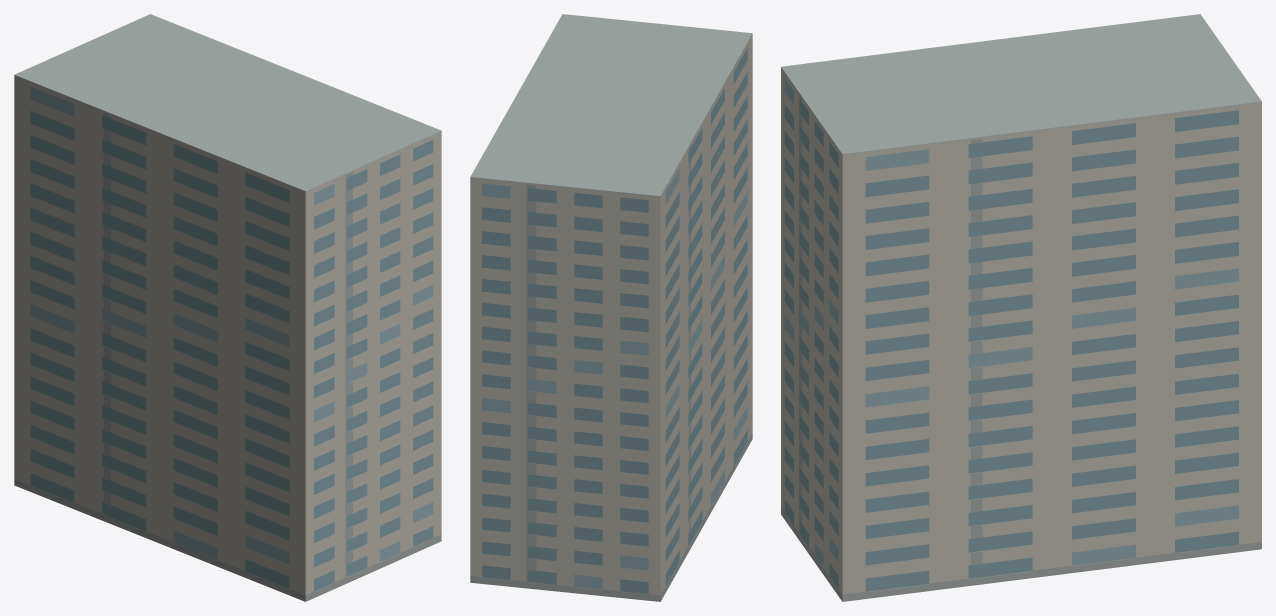
Rendered from residential-f79dd347-beaa-4d8f-bca1-f6fab1f5e584.glb.
3 views of the same model, side by side, from view 1: azimuth 30°, elevation 25°; view 2: azimuth 150°, elevation 25°; view 3: azimuth 270°, elevation 25° (orthographic). The views are drawn at different scales.
Parts seen in each view (by area): view 1: residential-f79dd347-beaa-4d8f-bca1-f6fab1f5e584.tmp; view 2: residential-f79dd347-beaa-4d8f-bca1-f6fab1f5e584.tmp; view 3: residential-f79dd347-beaa-4d8f-bca1-f6fab1f5e584.tmp.
Part boxes in pixels (<box>): residential-f79dd347-beaa-4d8f-bca1-f6fab1f5e584.tmp: <box>14,14,441,601</box>; residential-f79dd347-beaa-4d8f-bca1-f6fab1f5e584.tmp: <box>470,14,752,601</box>; residential-f79dd347-beaa-4d8f-bca1-f6fab1f5e584.tmp: <box>781,14,1261,601</box>.
Bounding box in the file's own units: 33.56 × 50 × 48.67.
